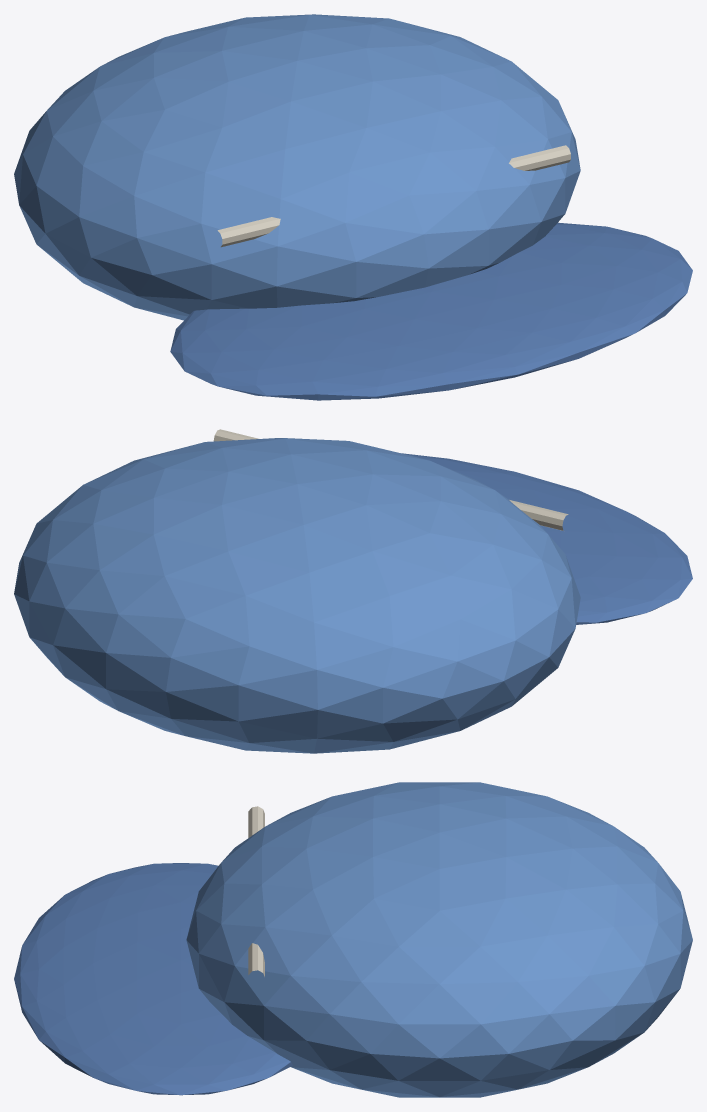
File: bone_azul.glb
The picture shows the model from 3 angles, top to bottom: view 1: azimuth 30°, elevation 25°; view 2: azimuth 150°, elevation 25°; view 3: azimuth 270°, elevation 25°; orthographic projection. The views are drawn at different scales.
Visible parts, largest first — view 1: copa, viseira, costura; view 2: copa, viseira, costura; view 3: copa, viseira, costura.
Boxes of the visible parts, x1,y1,x2,y2 form: copa: (14,14,580,320); viseira: (170,222,692,400); costura: (217,145,570,247); copa: (14,438,580,753); viseira: (402,453,692,624); costura: (213,429,568,530); copa: (186,782,692,1097); viseira: (14,863,292,1095); costura: (248,806,264,976).
Bounding box in the file's own units: 0.0052 × 0.0022 × 0.0063.
